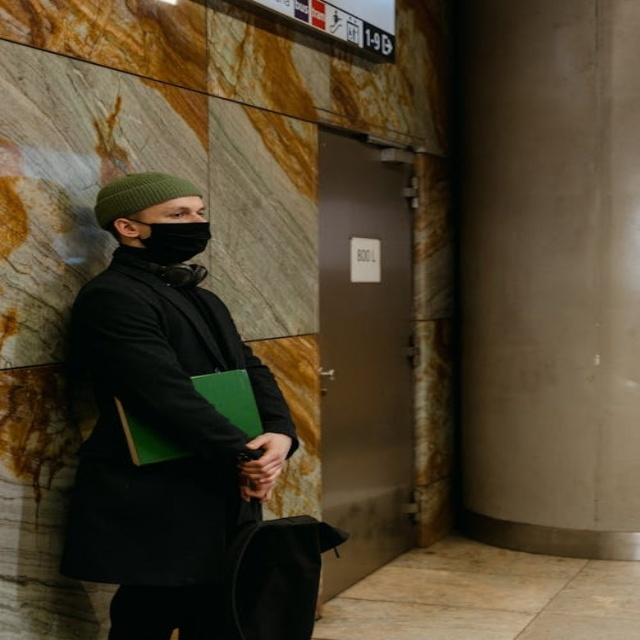Mascara: (124, 221, 211, 264)
Sin_gafas: (151, 206, 210, 221)
Sin_guantes: (237, 430, 300, 504)
